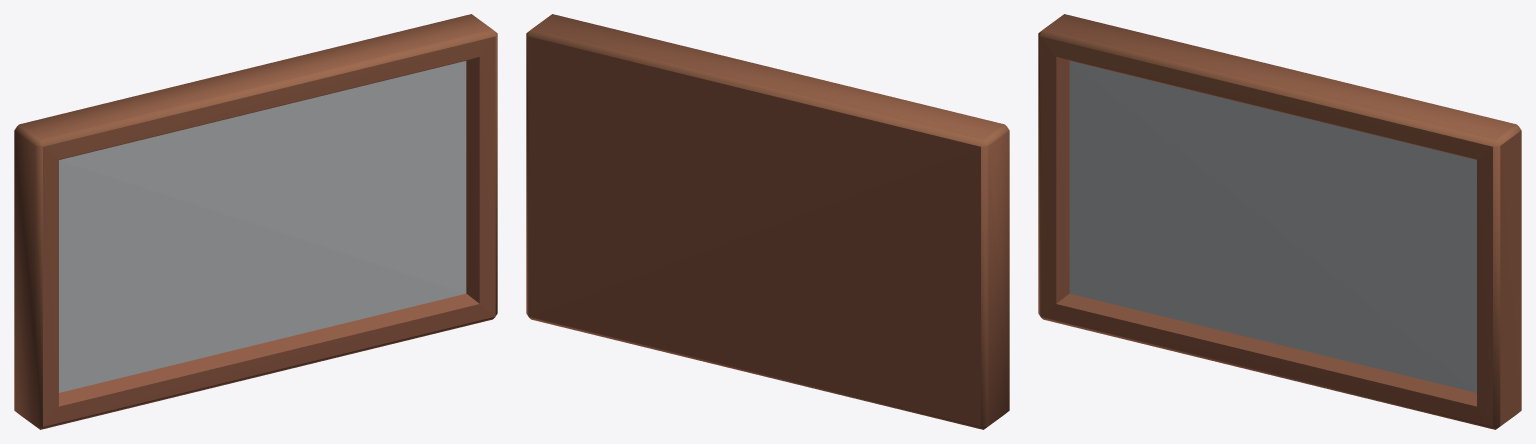
The model's file is kk_furniture_pictureframe_large_B.glb.
The picture shows the model from 3 angles, left to right: view 1: azimuth 30°, elevation 25°; view 2: azimuth 150°, elevation 25°; view 3: azimuth 330°, elevation 25°; orthographic projection.
Visible parts, largest first — view 1: kk_furniture_pictureframe_large_B; view 2: kk_furniture_pictureframe_large_B; view 3: kk_furniture_pictureframe_large_B.
Part boxes in pixels (box(x1,y1,x2,y2)): kk_furniture_pictureframe_large_B: box(14, 14, 497, 429); kk_furniture_pictureframe_large_B: box(526, 14, 1009, 429); kk_furniture_pictureframe_large_B: box(1038, 14, 1521, 429).
Bounding box in the file's own units: 2 × 1.2 × 0.2.
